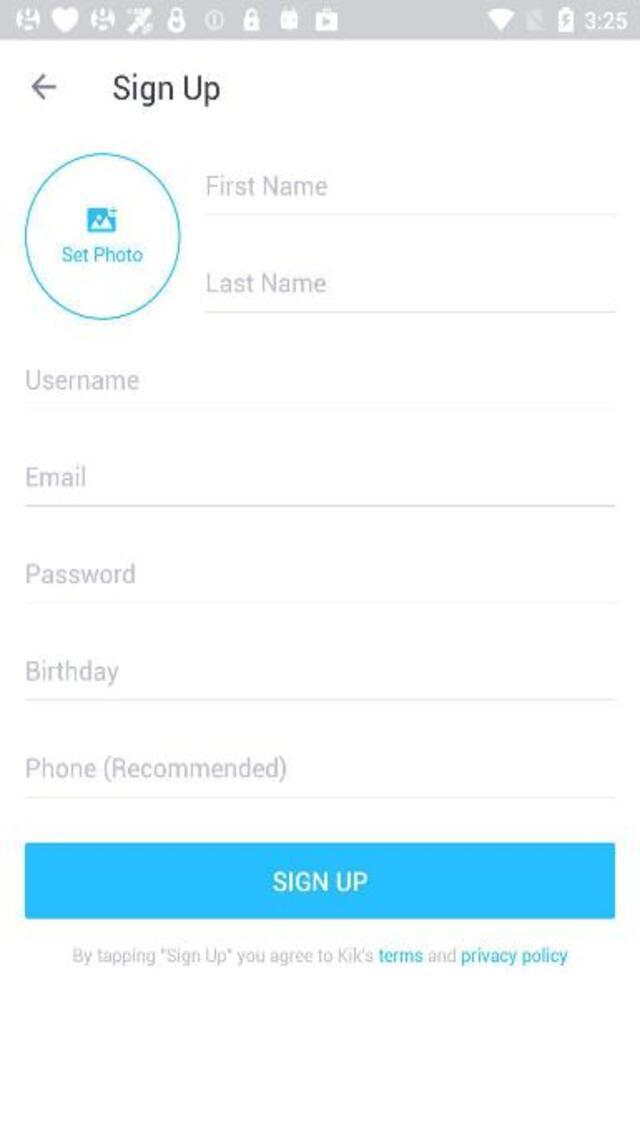Icon: (30, 74, 56, 100)
Image: (25, 153, 181, 320)
Text: (74, 946, 568, 966), (27, 754, 286, 782), (114, 73, 218, 105), (269, 869, 370, 896), (206, 176, 326, 197), (208, 272, 328, 292), (28, 562, 136, 583), (25, 368, 138, 388), (28, 660, 118, 684), (27, 466, 86, 487)
TextButton: (25, 842, 613, 918)
